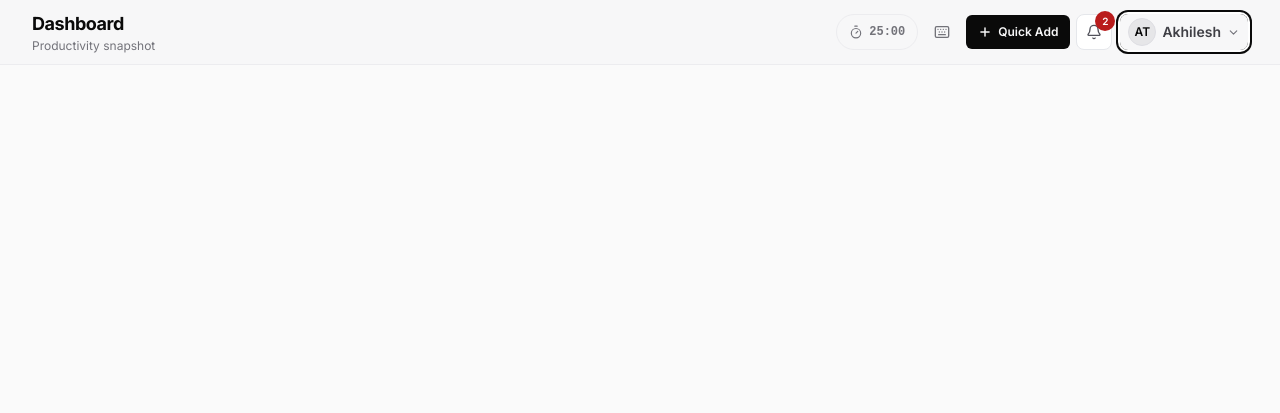
Test: Navigation & Layout Component Testing › Topbar Component › toggles UserMenu dropdown when clicking user account button
Click the button with aria-label "user account options" at (1184, 32), box [1120,14,1248,50]
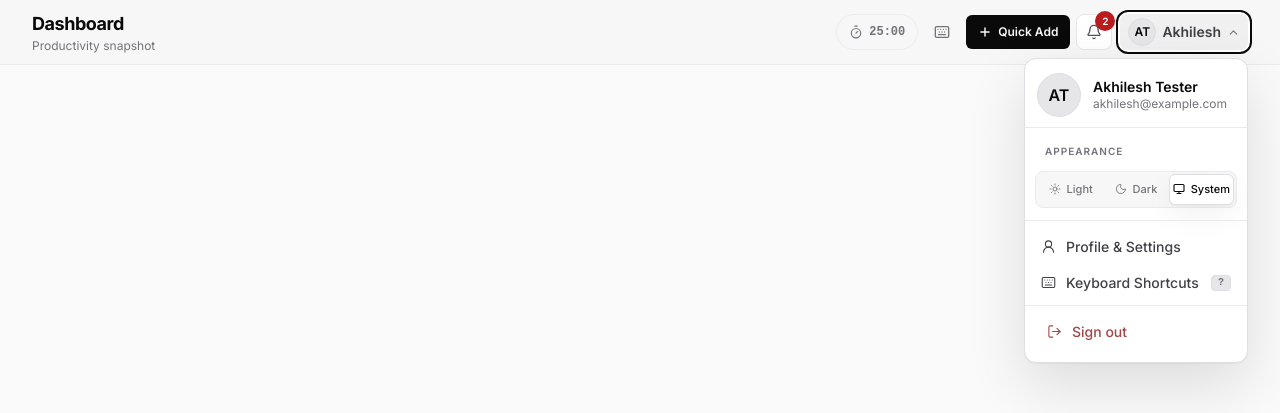
Now the menu is shown, box [1024,58,1248,362]
